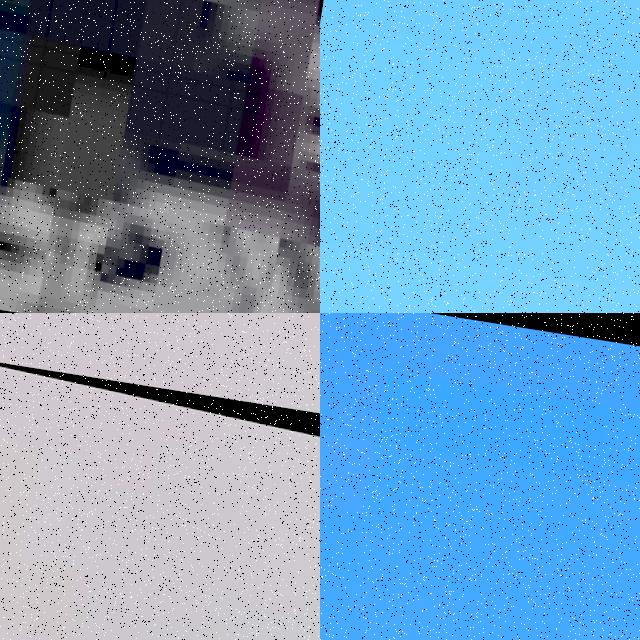drone: (0, 0, 320, 313), (0, 351, 320, 640)
